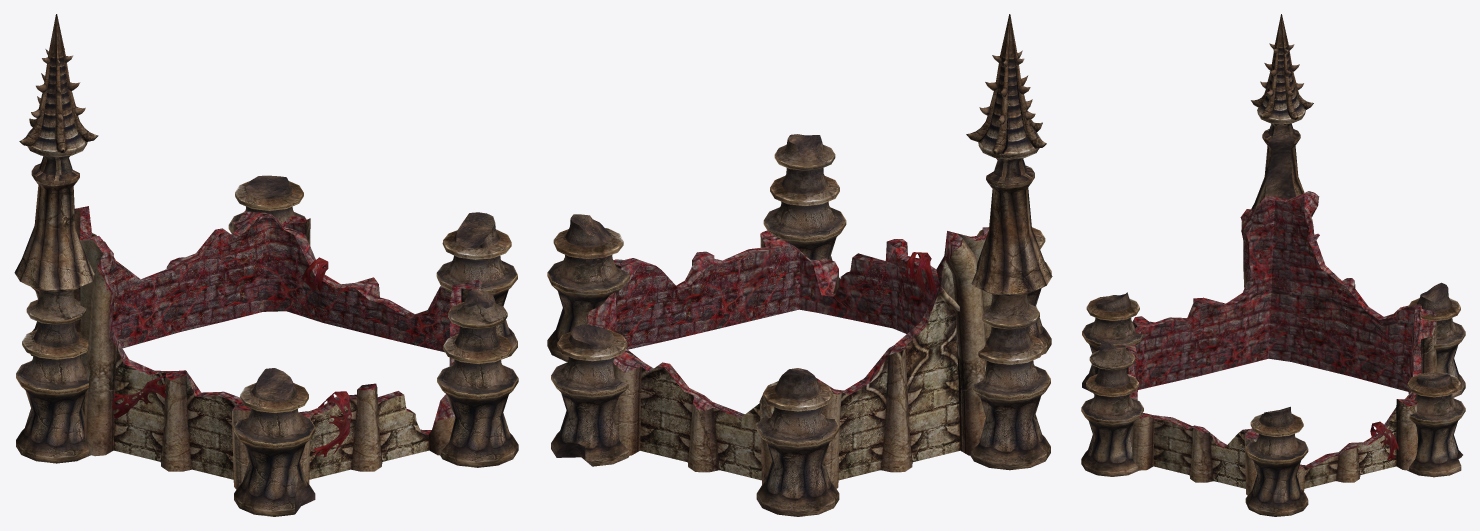
File: Queen Tower Broken C.obj
3 renders of one model, left to right at view 1: azimuth 30°, elevation 25°; view 2: azimuth 150°, elevation 25°; view 3: azimuth 270°, elevation 25°, orthographic. The views are drawn at different scales.
Visible parts, largest first — view 1: QueenTower_BrokenC; view 2: QueenTower_BrokenC; view 3: QueenTower_BrokenC.
Boxes of the visible parts, x1,y1,x2,y2 form: QueenTower_BrokenC: (14, 14, 518, 516); QueenTower_BrokenC: (547, 14, 1052, 516); QueenTower_BrokenC: (1081, 14, 1465, 516).
Size of the model in its own units: 14.15 by 11.93 by 12.5.
Materials: 3 (3 with a texture image).
